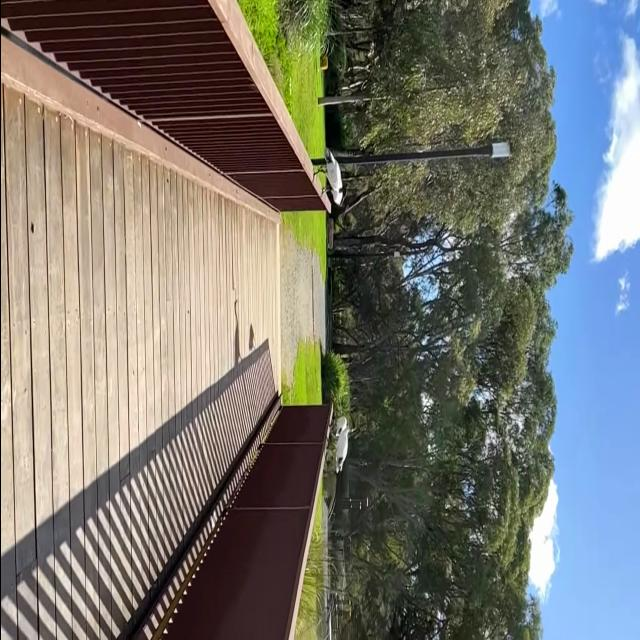Birds-Ibis: (310, 145, 348, 207), (322, 411, 357, 475), (324, 414, 348, 437), (320, 186, 342, 207)
